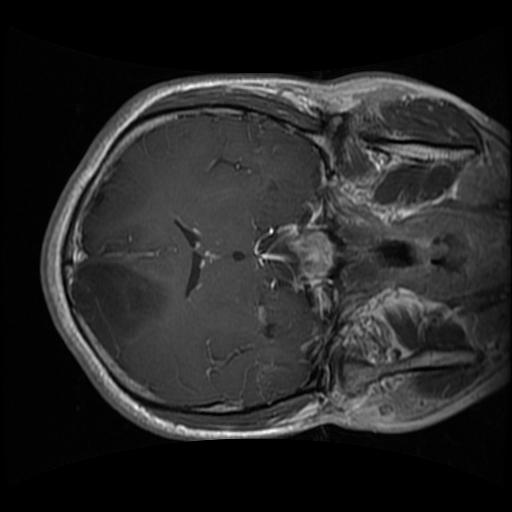glioma: (70, 259, 164, 348)
